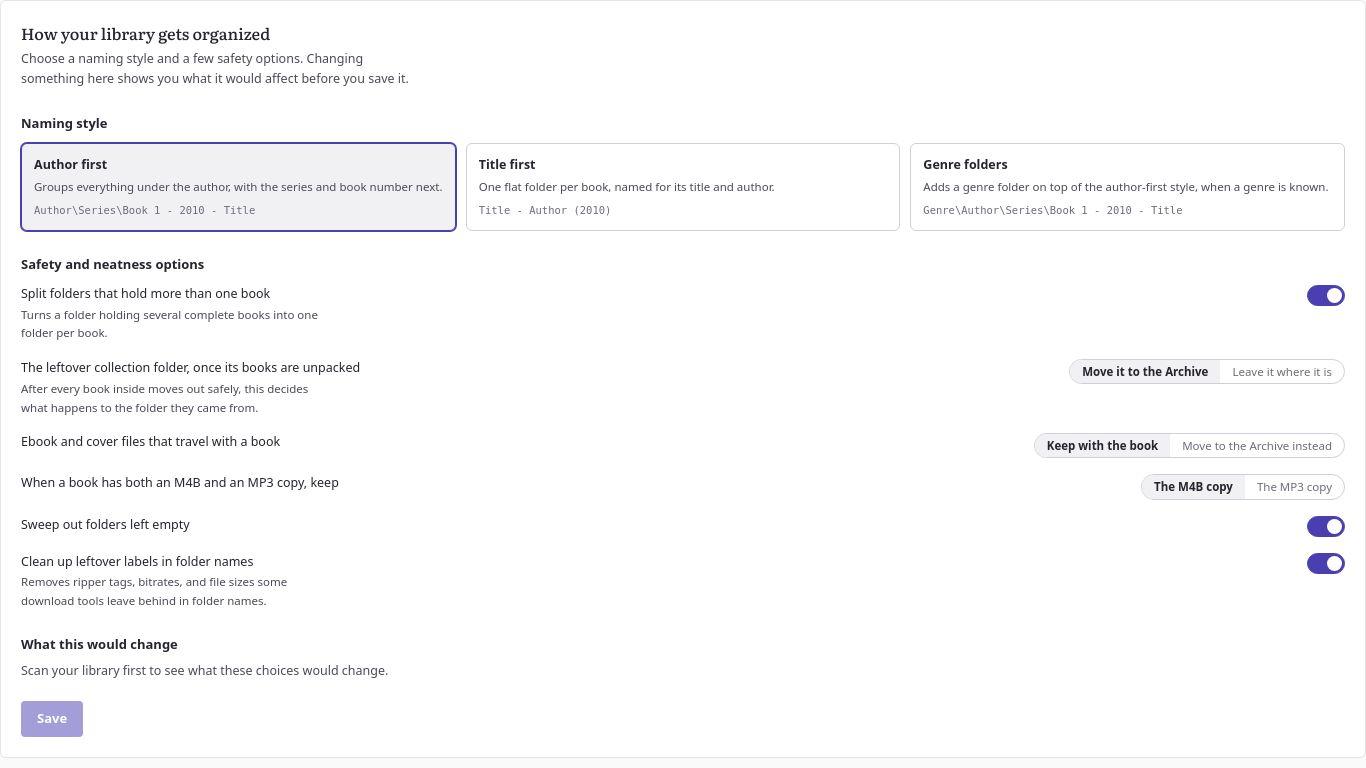
Test: RulesetEditor › switching the naming style marks the draft dirty and re-renders the picker
This screenshot has width=1366, height=768.
Expected: the radio button labelled "Author first" is shown, left=21, top=143, right=456, bottom=231
Step 1. Click the radio button labelled "Title first" → (683, 187), box left=466, top=143, right=900, bottom=231
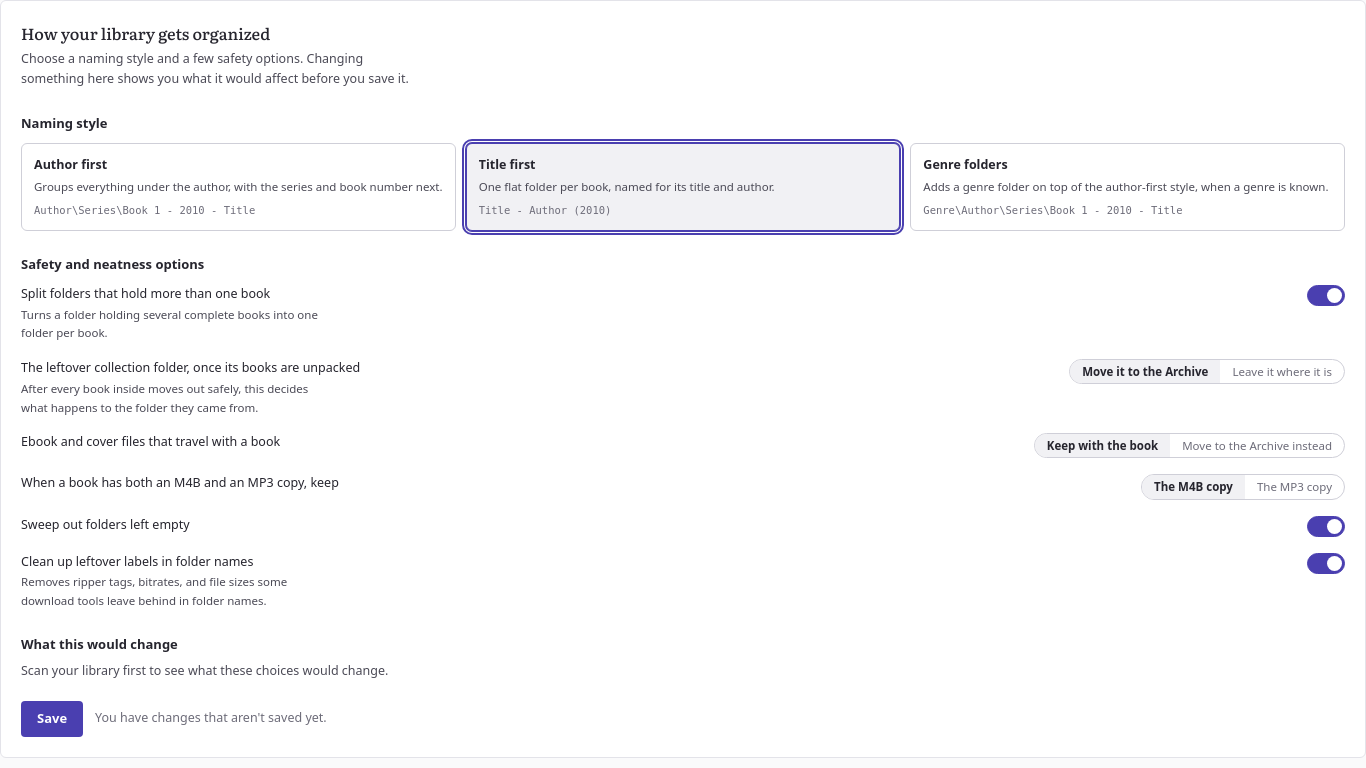
Expected: the text "You have changes that aren't saved yet." is shown, left=95, top=709, right=327, bottom=728
